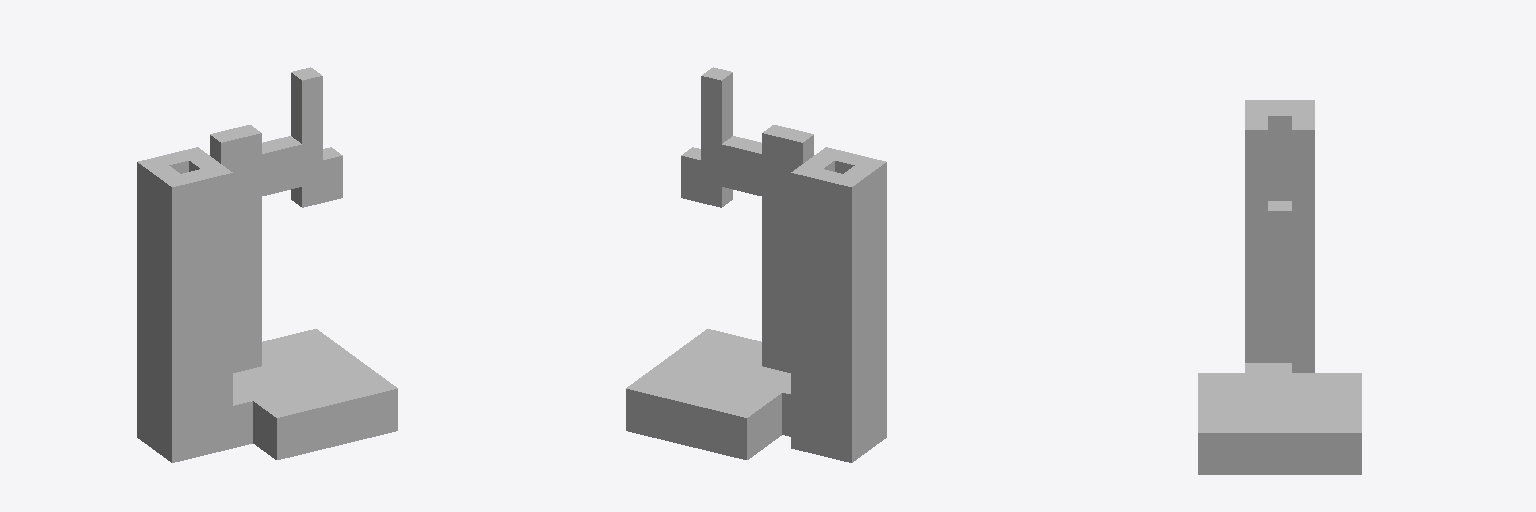
File: brewing stand.obj
3 renders of one model, left to right at view 1: azimuth 30°, elevation 25°; view 2: azimuth 150°, elevation 25°; view 3: azimuth 270°, elevation 25°, orthographic.
Visible parts, largest first — view 1: ObjObject.003_ObjObject.003_palette.003; view 2: ObjObject.003_ObjObject.003_palette.003; view 3: ObjObject.003_ObjObject.003_palette.003.
Boxes of the visible parts, x1=… form: ObjObject.003_ObjObject.003_palette.003: x1=137, y1=67, x2=397, y2=462; ObjObject.003_ObjObject.003_palette.003: x1=626, y1=67, x2=886, y2=462; ObjObject.003_ObjObject.003_palette.003: x1=1198, y1=100, x2=1361, y2=474.
Size of the model in its own units: 1 by 1.6 by 0.7.